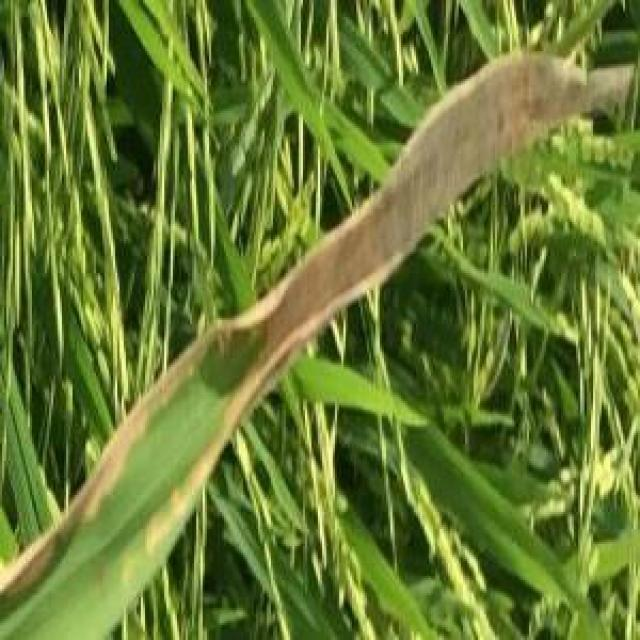leaf blight: (218, 28, 591, 365), (4, 356, 250, 595)
